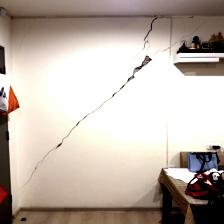High: (21, 16, 166, 174)
